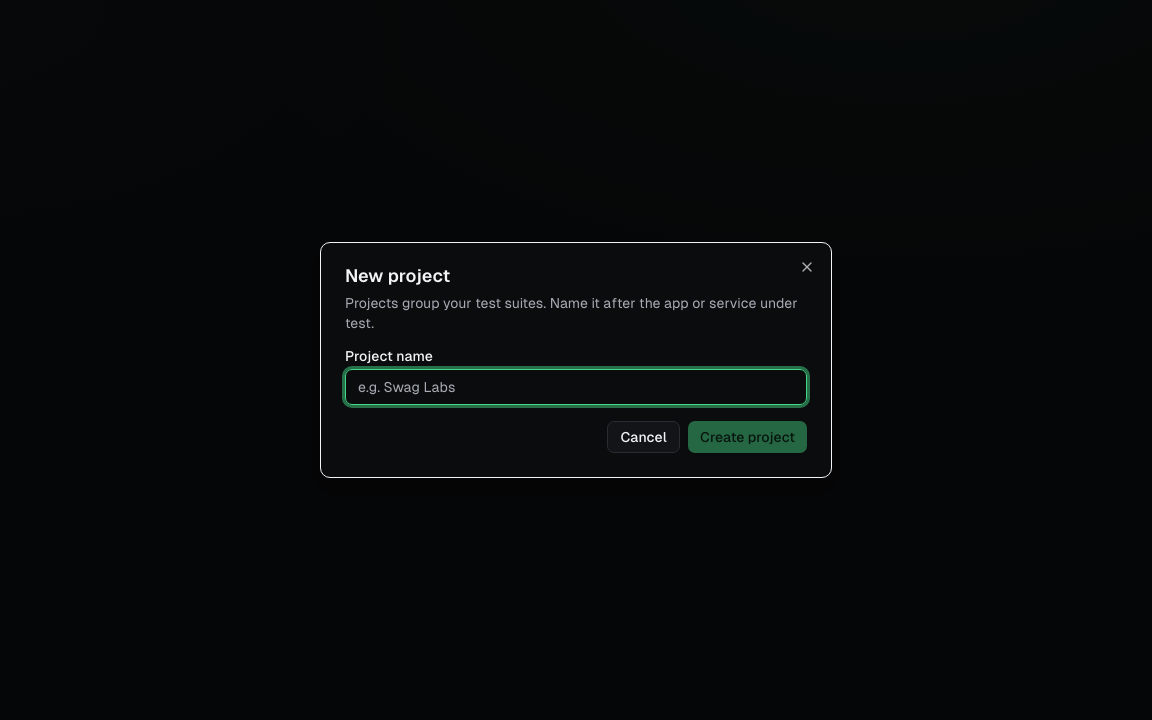
Test: CreateProjectDialog › surfaces an error when the name collides (409)
In the field with test id "create-project-name": (576, 387) x1=345 y1=369 x2=807 y2=405, type "Dupe"
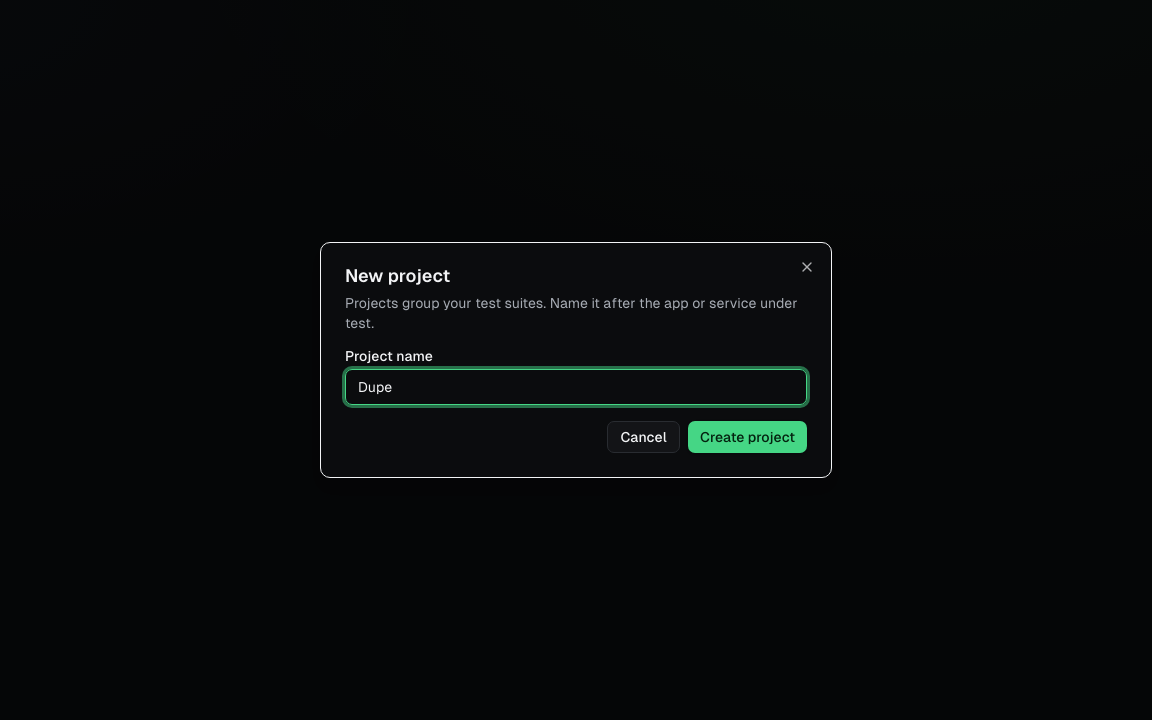
Click the button with test id "create-project-submit": click(747, 437) x1=688 y1=421 x2=807 y2=453
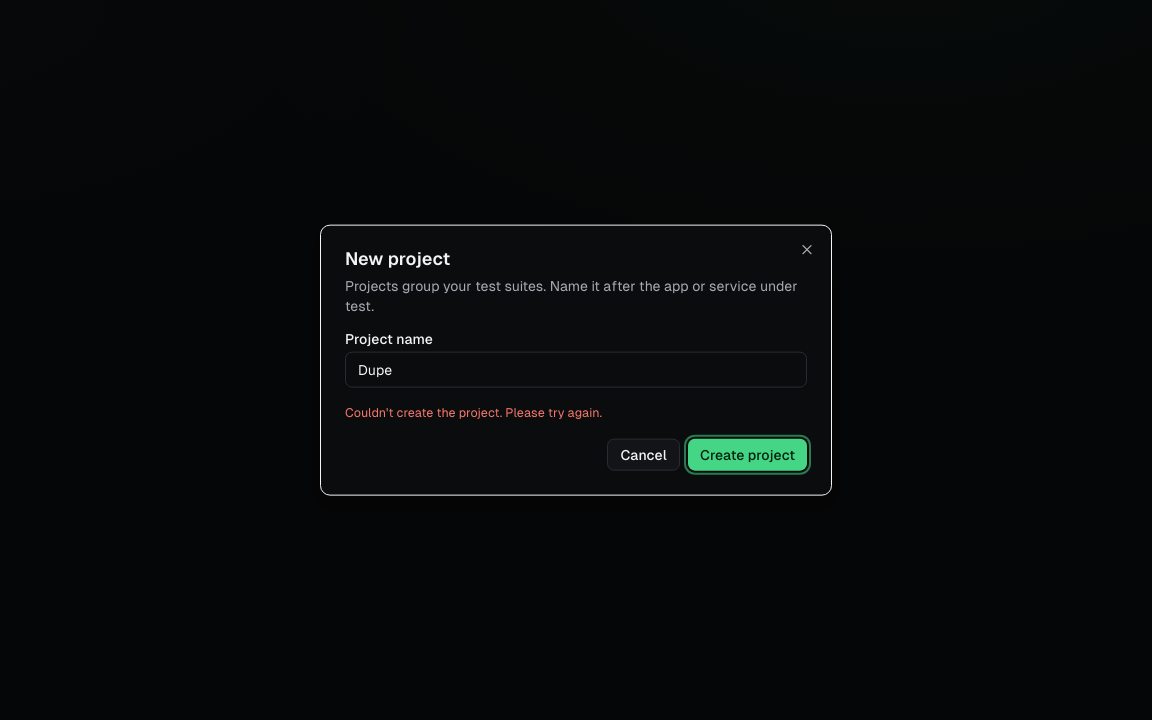
Expected: the text "Couldn't create the project. Please try again." is shown, x1=345 y1=405 x2=602 y2=420
